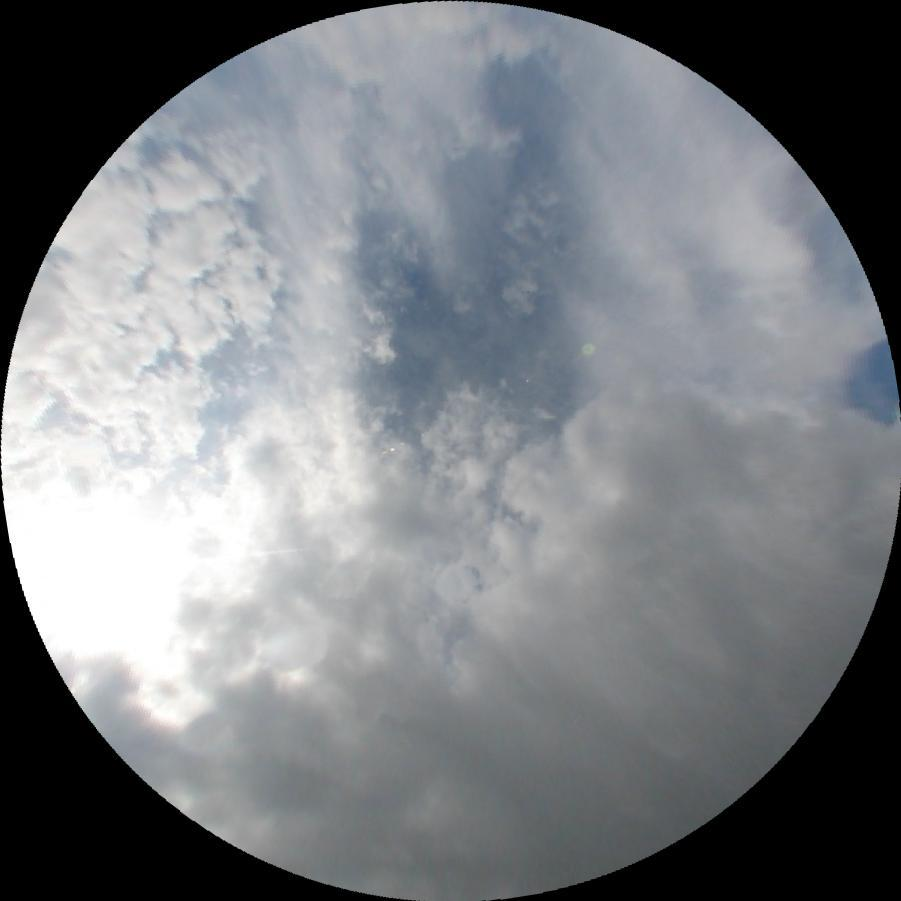parasite: (165, 546, 301, 565)
sun: (9, 499, 178, 656)
